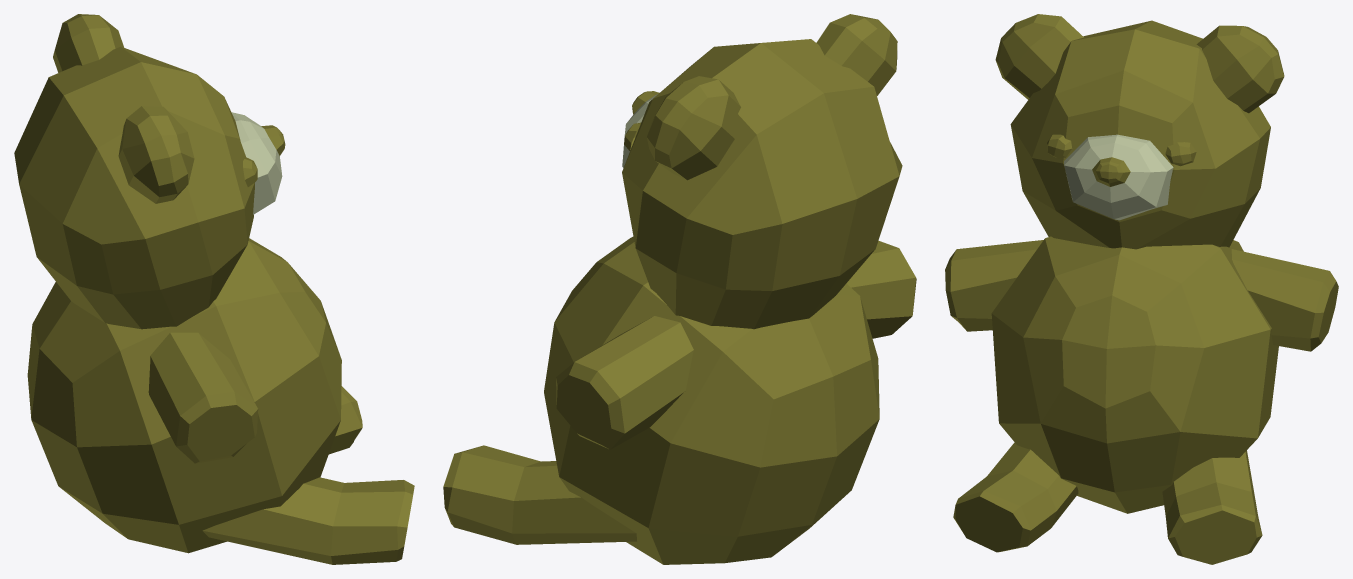
Rendered from Childrens_Room_Teddy.fbx.
3 views of the same model, side by side, from view 1: azimuth 30°, elevation 25°; view 2: azimuth 150°, elevation 25°; view 3: azimuth 270°, elevation 25° (orthographic). The views are drawn at different scales.
Visible parts, largest first — view 1: Childrens_Room_Teddy; view 2: Childrens_Room_Teddy; view 3: Childrens_Room_Teddy.
Part boxes in pixels (left/top/right/bottom): Childrens_Room_Teddy: left=14, top=14, right=414, bottom=564; Childrens_Room_Teddy: left=443, top=14, right=916, bottom=564; Childrens_Room_Teddy: left=945, top=14, right=1338, bottom=564.
Bounding box in the file's own units: 58.77 × 79 × 62.47.
